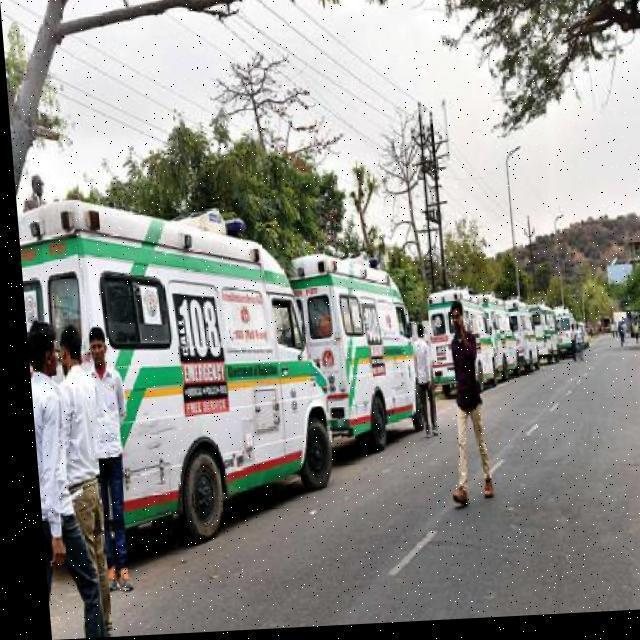Ambulance: (12, 166, 600, 576), (23, 329, 640, 638), (13, 186, 336, 560), (278, 250, 421, 460), (414, 284, 586, 402), (426, 301, 492, 516)
